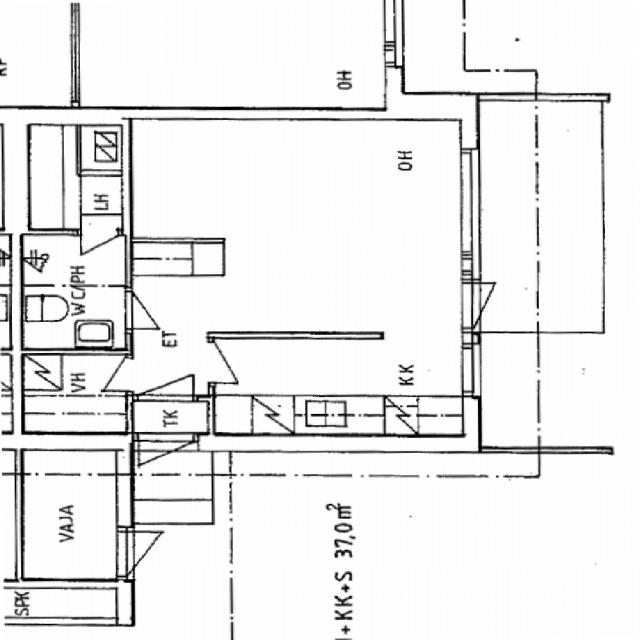door: (138, 434, 194, 494), (462, 282, 530, 328), (138, 344, 193, 400), (117, 530, 181, 576), (208, 340, 260, 382), (126, 291, 171, 328), (88, 357, 132, 391), (81, 228, 118, 268)
